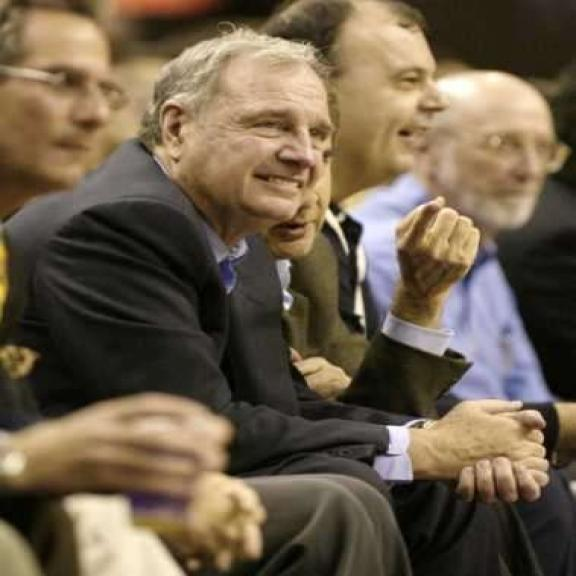face: (164, 57, 327, 226), (326, 1, 450, 179), (10, 6, 112, 193), (450, 78, 558, 228)
